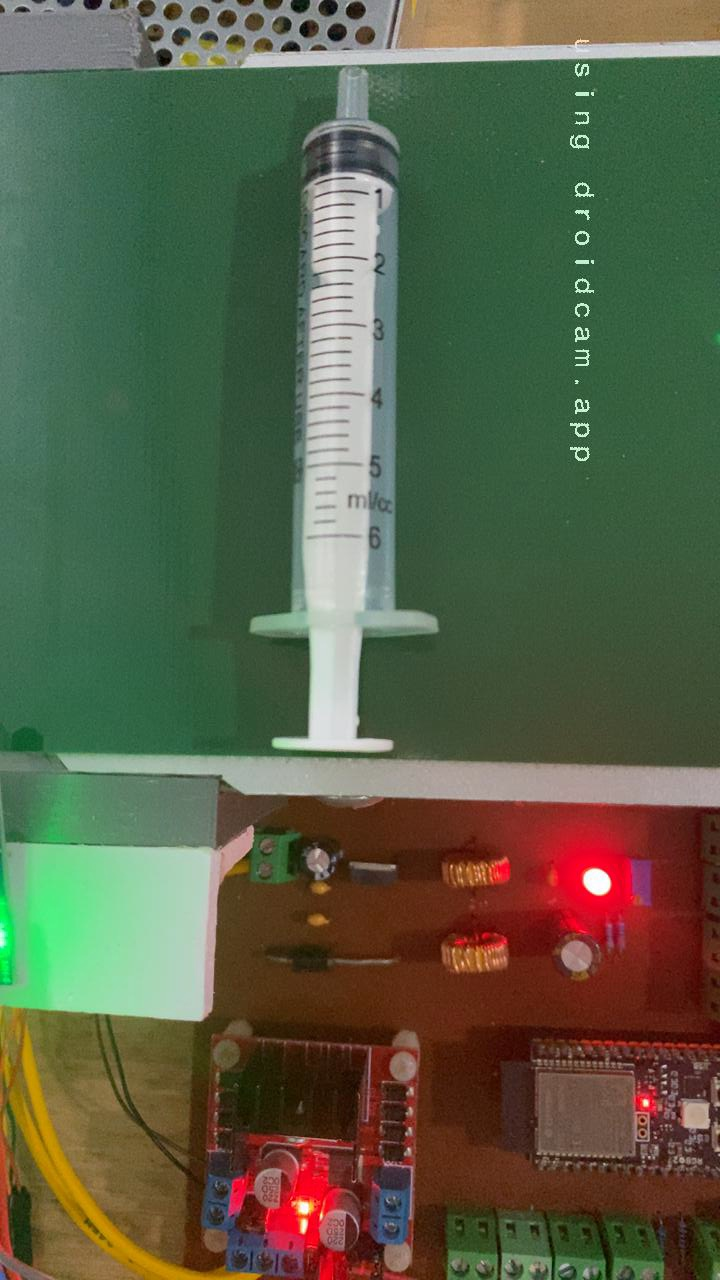syringe: (0, 62, 442, 757)
